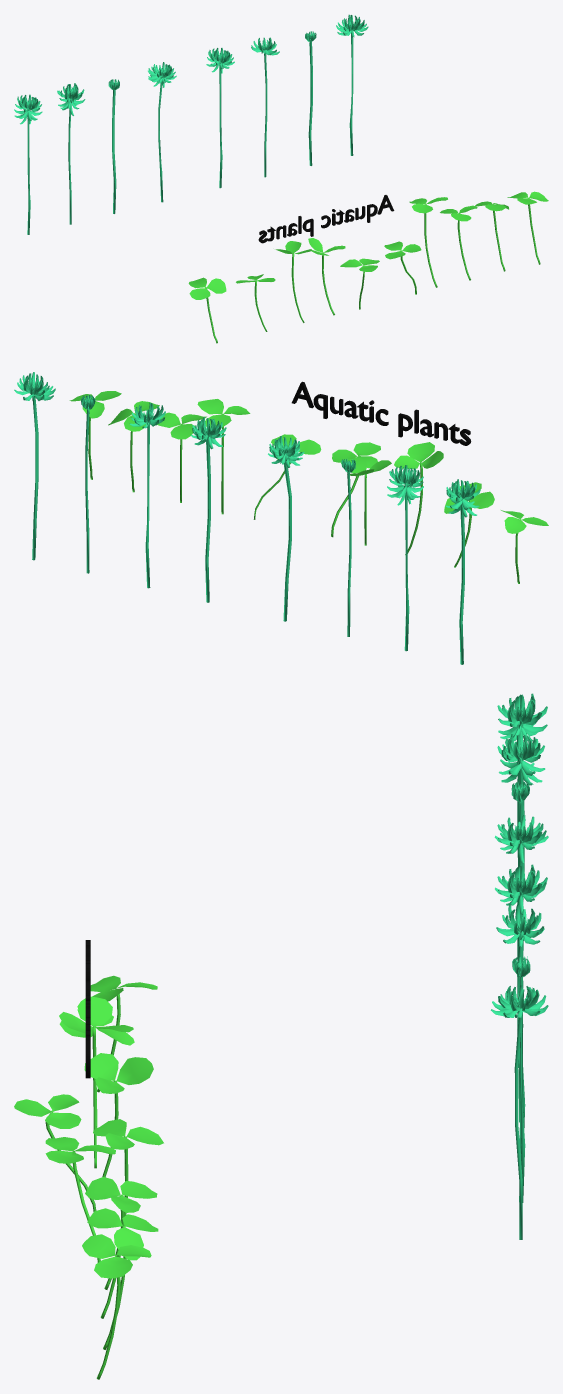
Rendered from Aquatic plants.gltf.
The picture shows the model from 3 angles, top to bottom: view 1: azimuth 30°, elevation 25°; view 2: azimuth 150°, elevation 25°; view 3: azimuth 270°, elevation 25°; orthographic projection. The views are drawn at different scales.
Parts seen in each view (by area): view 1: flower_A, clover_9, Text; view 2: flower_A, clover_9, Text; view 3: clover_9, flower_A, Text.
Part boxes in pixels (<box>): flower_A: <box>14,14,368,234</box>; clover_9: <box>188,191,548,343</box>; Text: <box>258,195,394,243</box>; flower_A: <box>14,372,480,664</box>; clover_9: <box>69,391,548,583</box>; Text: <box>291,381,471,445</box>; clover_9: <box>14,975,163,1379</box>; flower_A: <box>491,693,548,1239</box>; Text: <box>85,940,90,1078</box>.
Bounding box in the file's own units: 0.2139 × 0.0885 × 0.1301.
